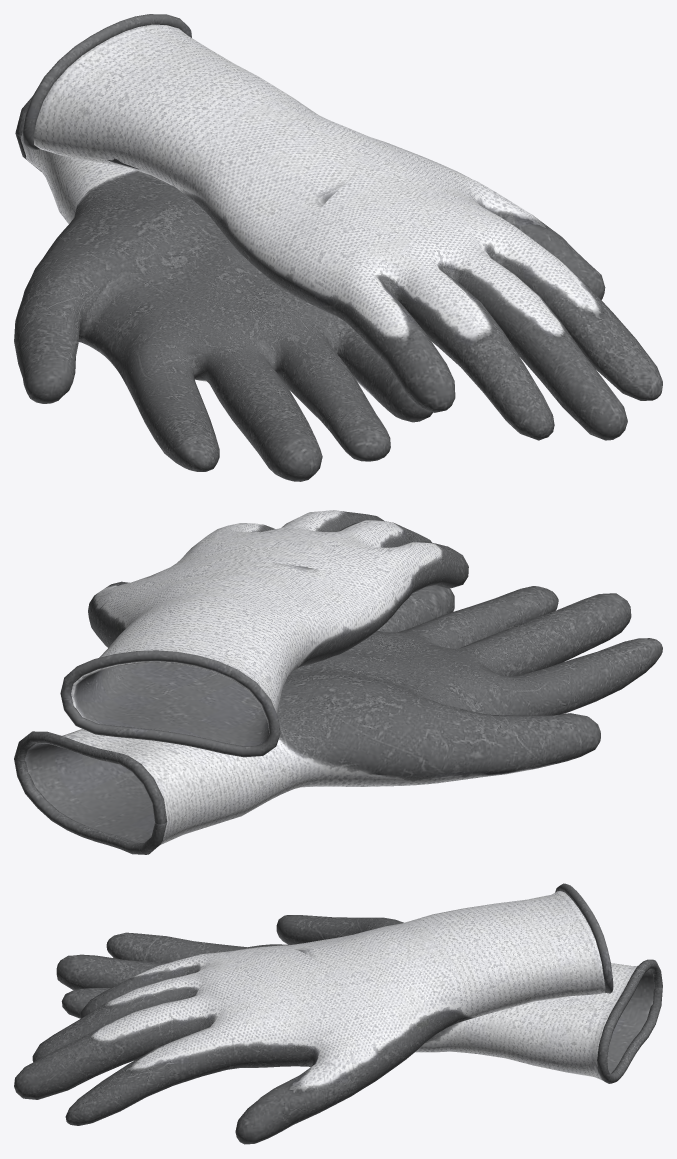
The model's file is gloves.glb.
3 renders of one model, top to bottom at view 1: azimuth 30°, elevation 25°; view 2: azimuth 150°, elevation 25°; view 3: azimuth 270°, elevation 25°, orthographic. The views are drawn at different scales.
Parts seen in each view (by area): view 1: garden_gloves_01; view 2: garden_gloves_01; view 3: garden_gloves_01.
Boxes of the visible parts, x1,y1,x2,y2 form: garden_gloves_01: (14, 14, 662, 481); garden_gloves_01: (14, 510, 662, 854); garden_gloves_01: (14, 883, 662, 1144).
Bounding box in the file's own units: 0.2266 × 0.076 × 0.299.
1 material, 1 textured.
